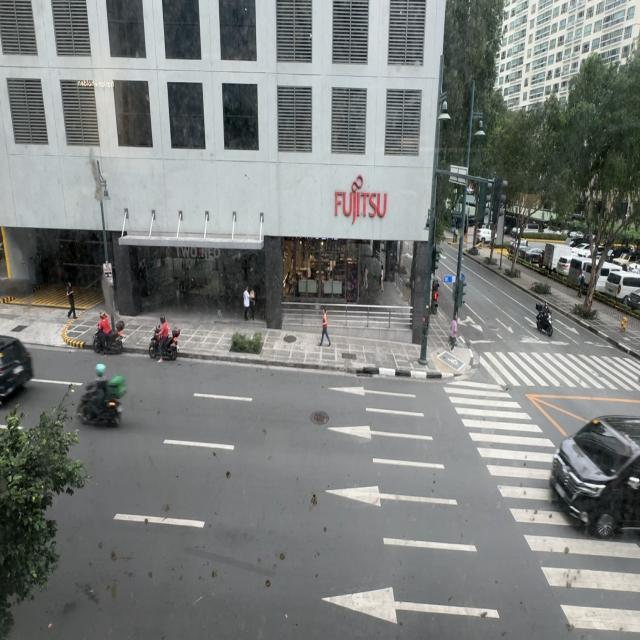waiting: (449, 314, 458, 352)
